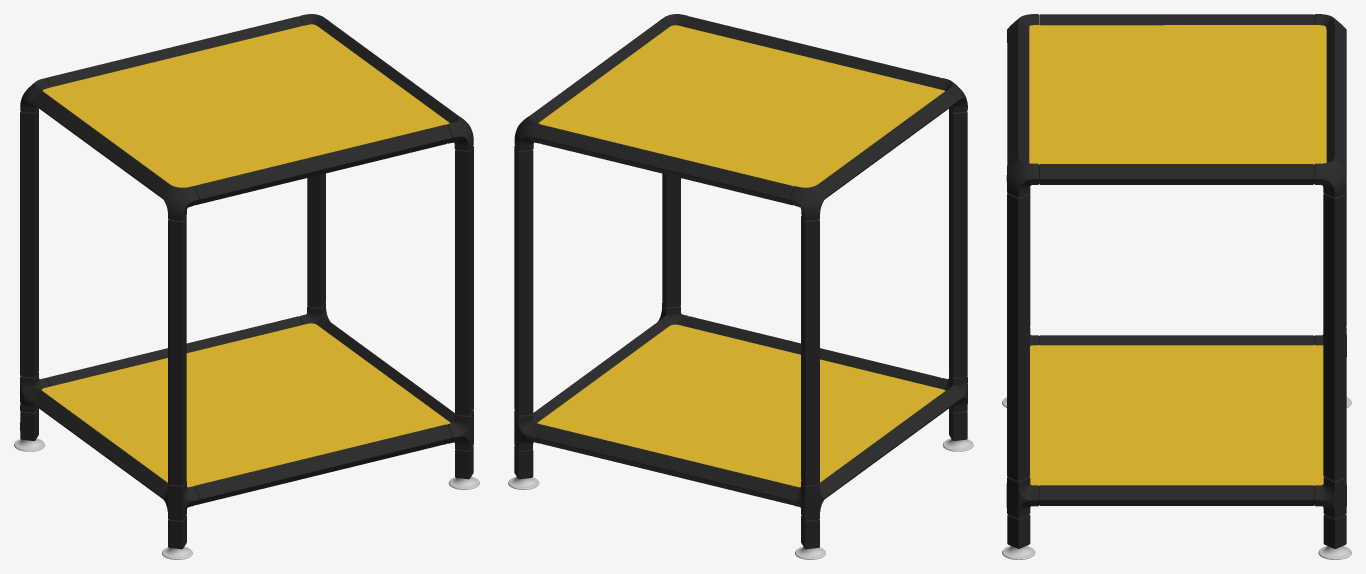
The picture shows the model from 3 angles, left to right: view 1: azimuth 30°, elevation 25°; view 2: azimuth 150°, elevation 25°; view 3: azimuth 270°, elevation 25°; orthographic projection. The views are drawn at different scales.
Visible parts, largest first — view 1: 374x329x374; view 2: 374x329x374; view 3: 374x329x374.
Boxes of the visible parts, x1=… form: 374x329x374: x1=14, y1=14, x2=479, y2=559; 374x329x374: x1=508, y1=14, x2=973, y2=559; 374x329x374: x1=1002, y1=14, x2=1351, y2=559.
Bounding box in the file's own units: 0.4639 × 0.5133 × 0.4181.
